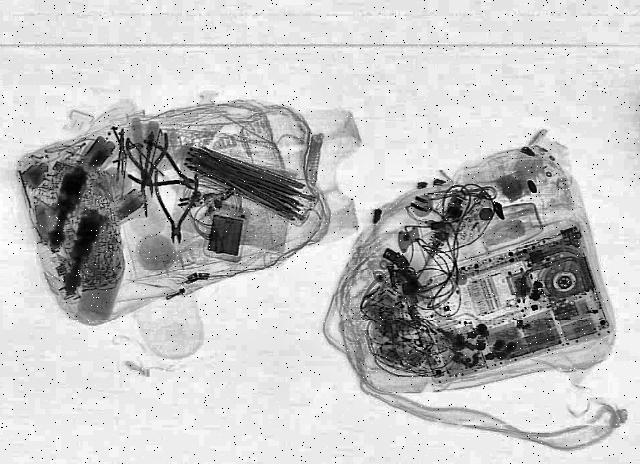Pliers: (124, 143, 216, 201), (120, 129, 178, 217), (155, 169, 201, 243)
